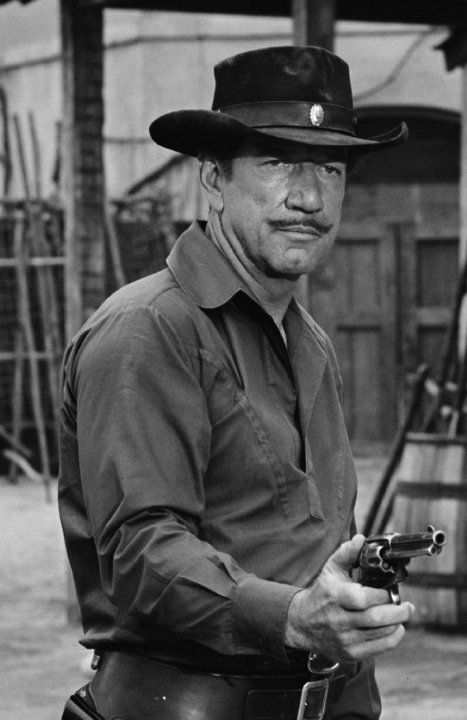Revolver: (326, 504, 457, 602)
